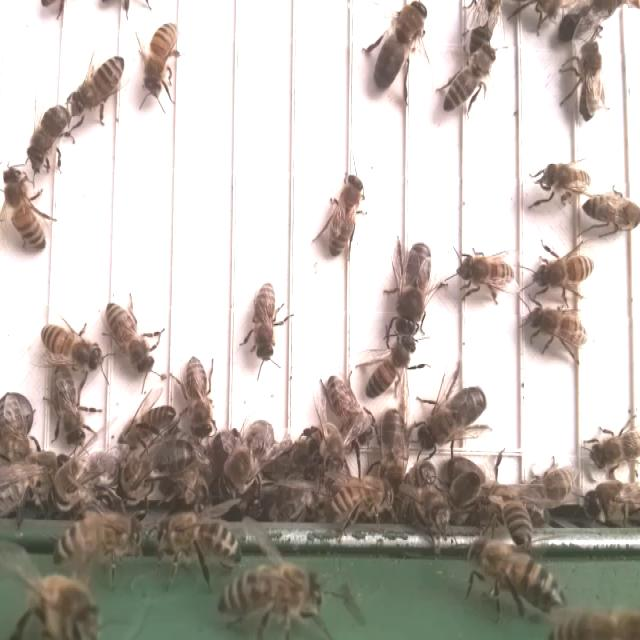Drone: (372, 0, 432, 95), (415, 383, 489, 455), (390, 240, 434, 339)
Worker: (439, 42, 498, 114), (102, 300, 157, 377), (2, 169, 47, 256), (323, 368, 371, 444), (324, 170, 363, 260), (141, 17, 182, 102), (50, 362, 89, 450), (366, 334, 416, 400), (26, 100, 71, 170), (75, 50, 126, 111), (180, 356, 216, 440), (35, 323, 103, 367), (531, 250, 596, 296), (248, 275, 280, 368), (524, 305, 590, 348), (454, 250, 512, 296), (581, 192, 640, 234), (538, 159, 594, 200), (577, 39, 604, 124)
